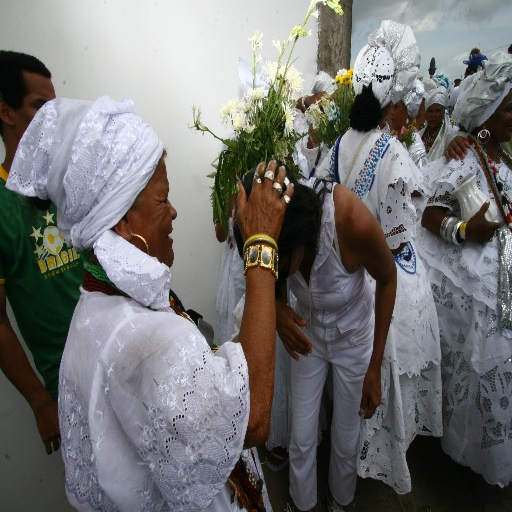hand: (232, 160, 298, 260), (276, 300, 315, 365), (463, 198, 503, 248), (32, 390, 60, 458), (357, 368, 383, 423), (443, 134, 470, 162)
